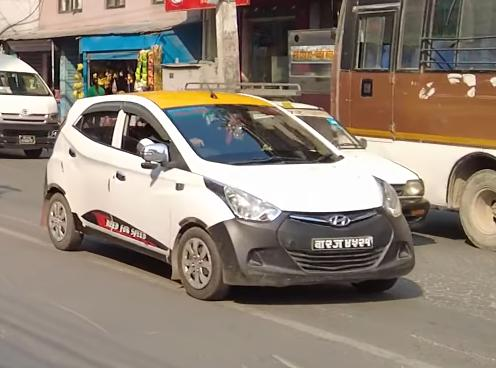bus: (331, 0, 496, 252)
micro_bus: (0, 49, 64, 166)
taxi: (35, 81, 415, 305)
